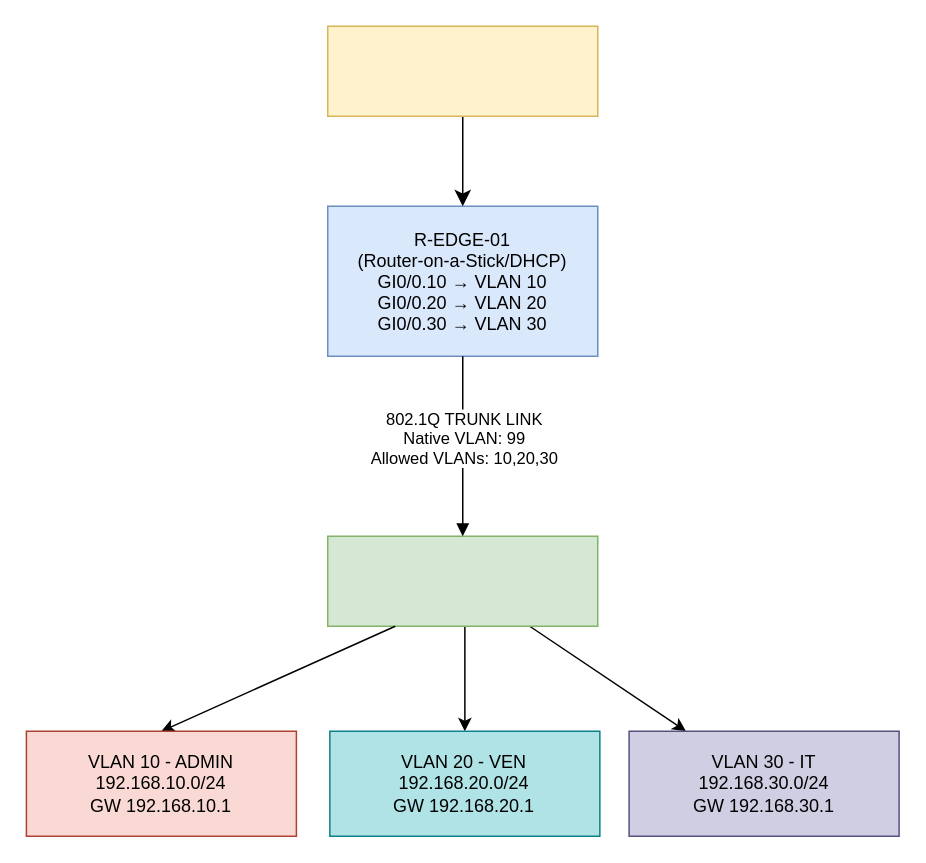
This 926x863 diagram has some shape labels left out. The centre of each missing label's shape, as x and y in pixels:
"SW-ACC-01" goes at pixel 462 580.
"WAN / ISP" goes at pixel 462 70.
